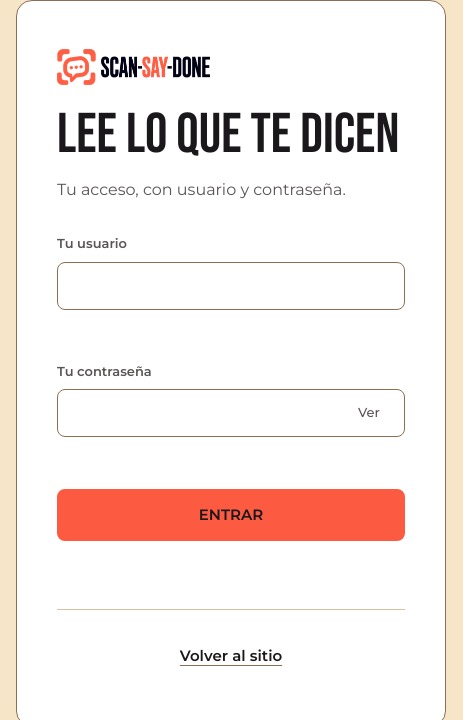
Scenario: LoginCard › un solo campo lleno muestra solo el mensaje del que falta
Type "minimarket_don_lucho" into the field labelled "Tu usuario" at (231, 286), box [57,262,405,310]
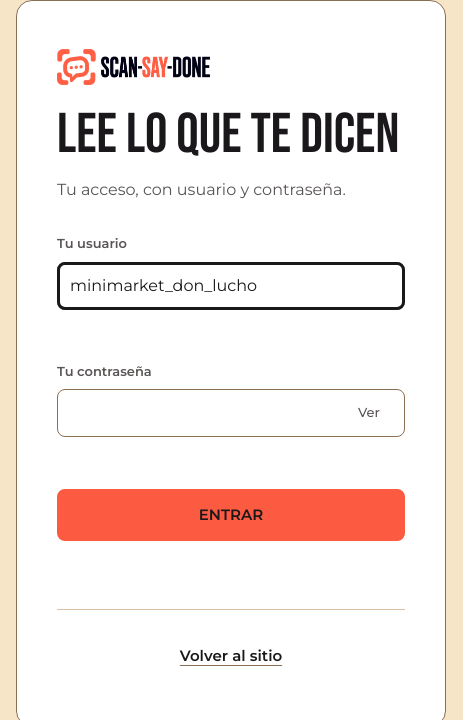
Click the button "ENTRAR" at (231, 515), box [57,489,405,541]
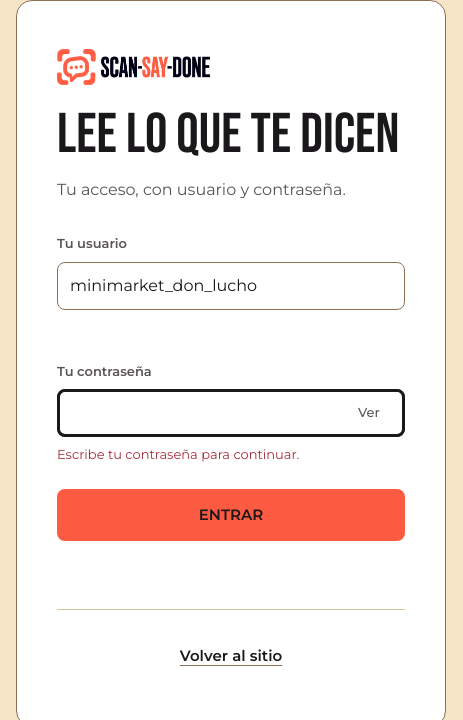
Expected: the text "Escribe tu contraseña para continuar." is shown, [57,446,299,462]
